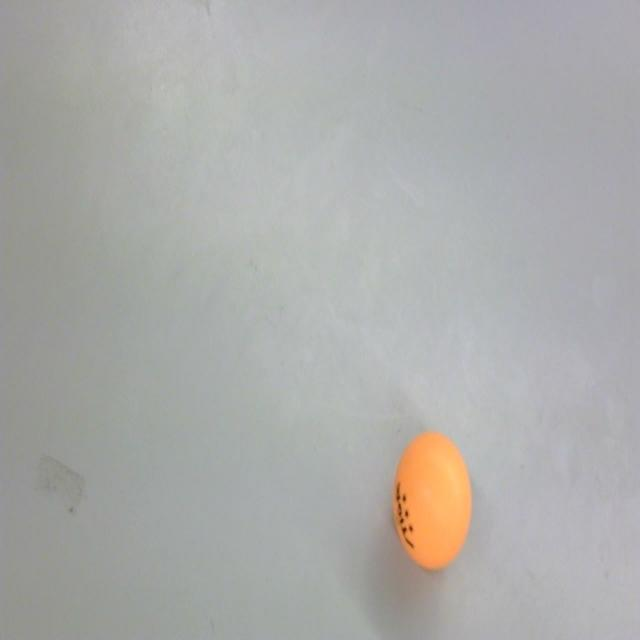ball: (393, 427, 473, 571)
